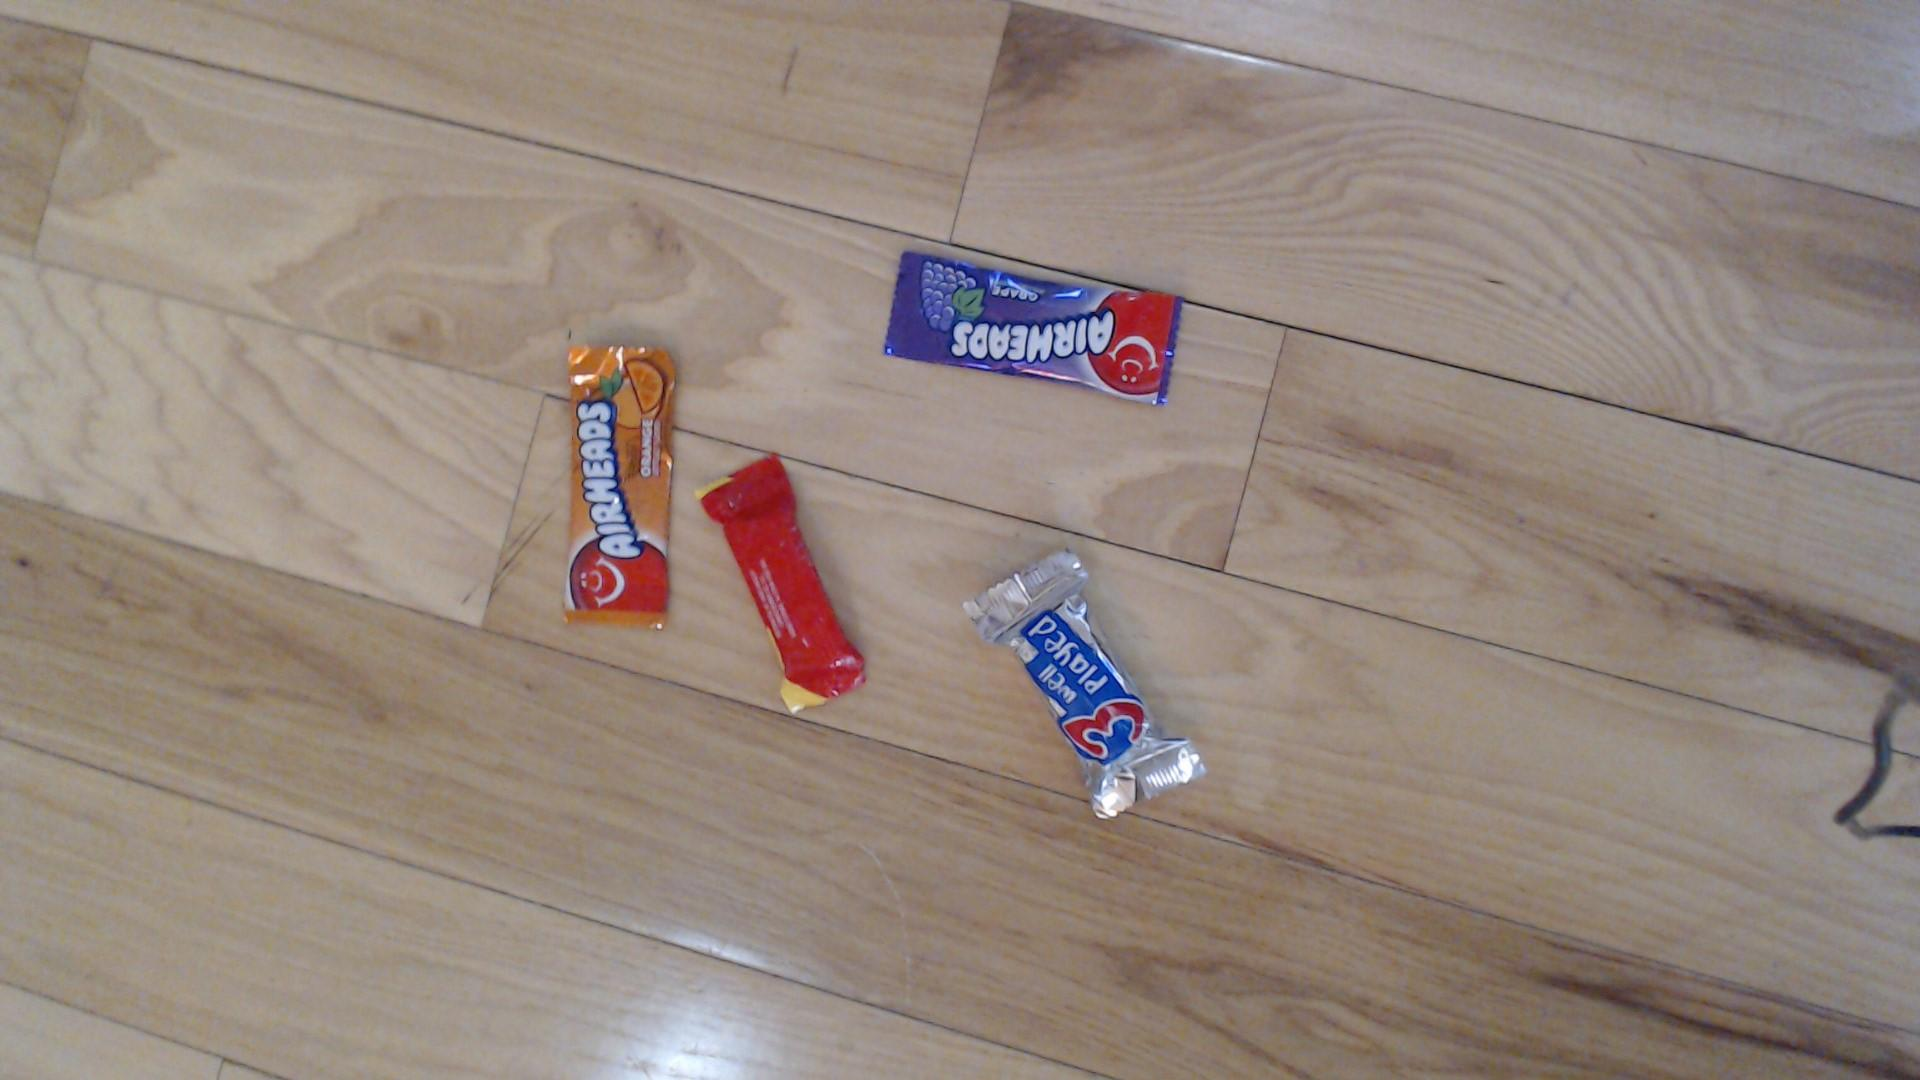airheads: (878, 252, 1178, 407), (563, 344, 679, 628)
musketeers: (960, 546, 1203, 812)
starburst: (698, 451, 864, 707)
